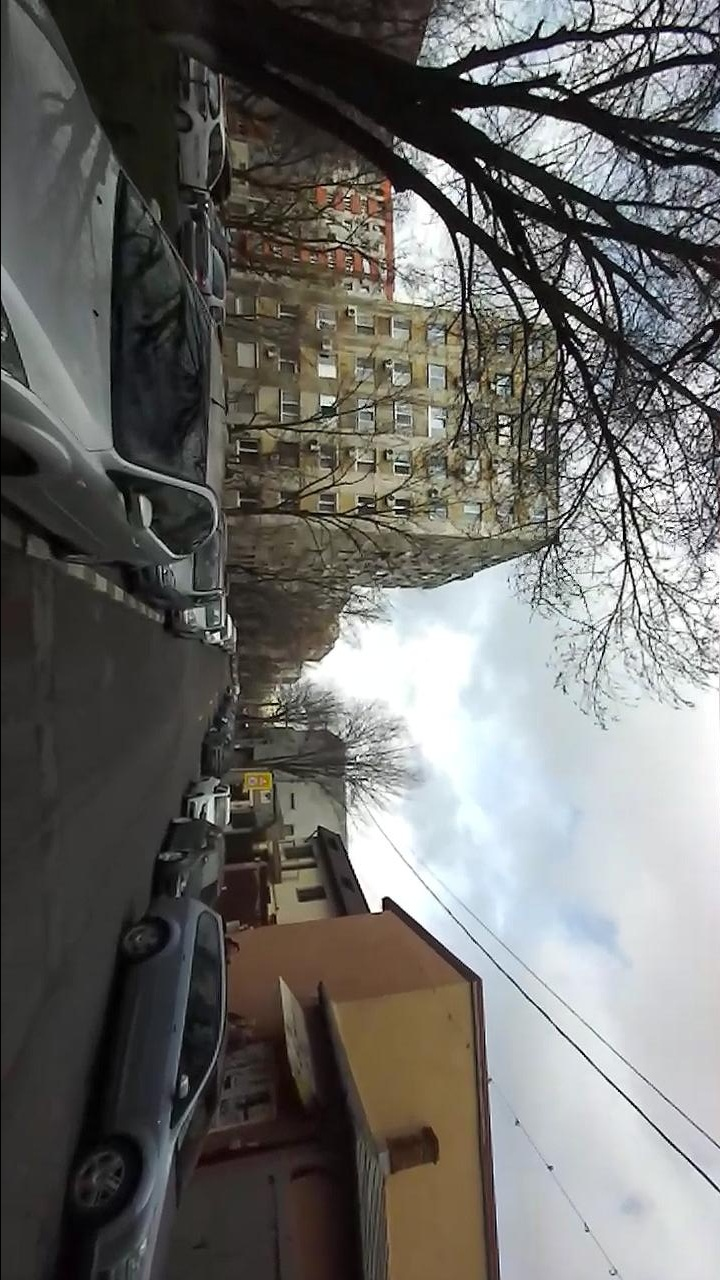pothole: (27, 657, 57, 758)
